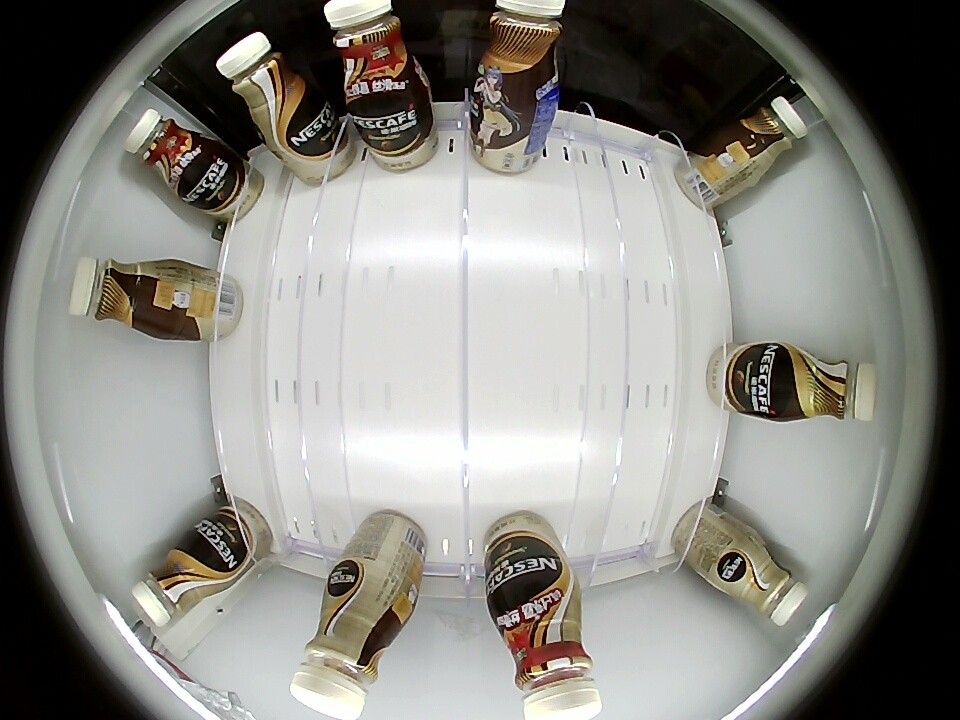kafei: (483, 585, 602, 720), (291, 583, 403, 719), (216, 31, 318, 142), (325, 0, 435, 92), (771, 345, 878, 423), (132, 540, 227, 627), (124, 108, 213, 193), (476, 0, 567, 83), (68, 257, 169, 331), (724, 540, 809, 626), (729, 97, 808, 172)
